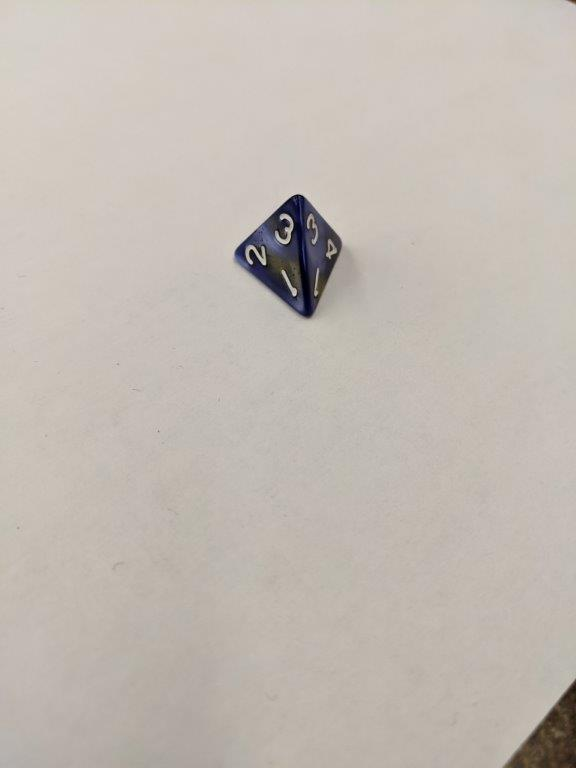d4-3: (228, 190, 344, 322)
